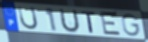1: (44, 7, 58, 33)
E: (100, 10, 123, 38)
G: (121, 13, 142, 38)
T: (81, 10, 97, 34)
U: (17, 5, 40, 31), (59, 8, 81, 34)
